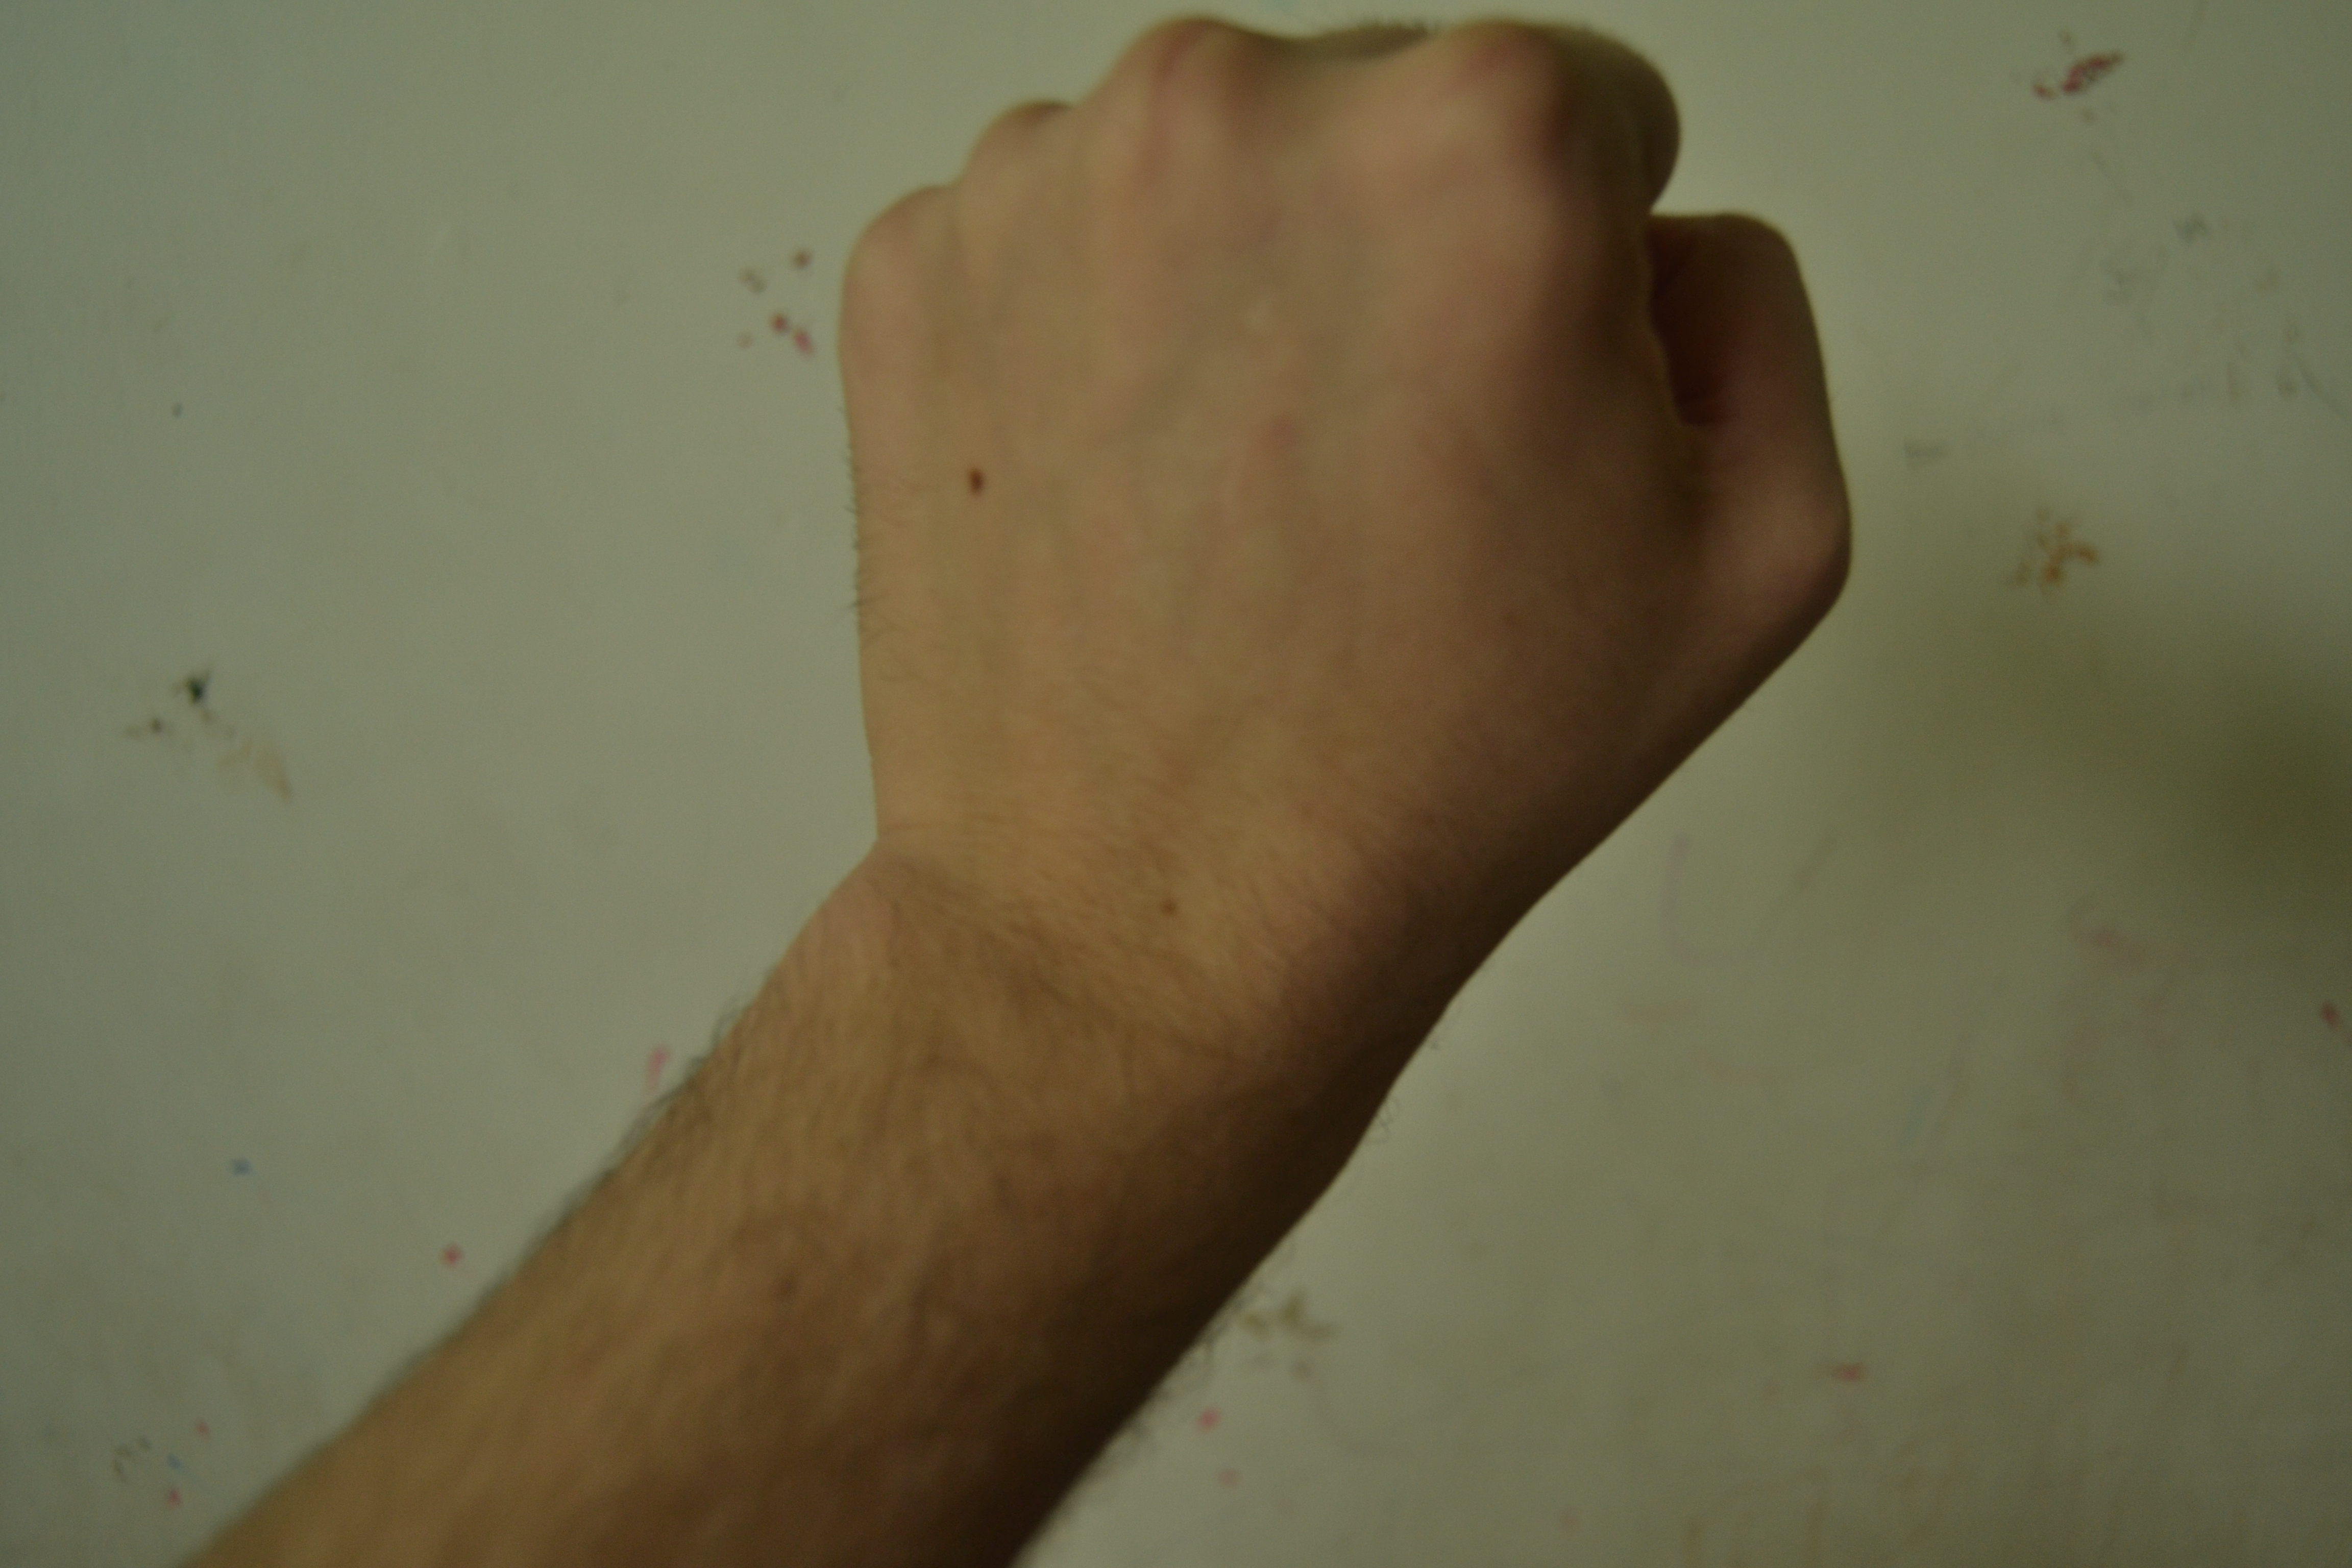click: (738, 24, 1883, 1158)
